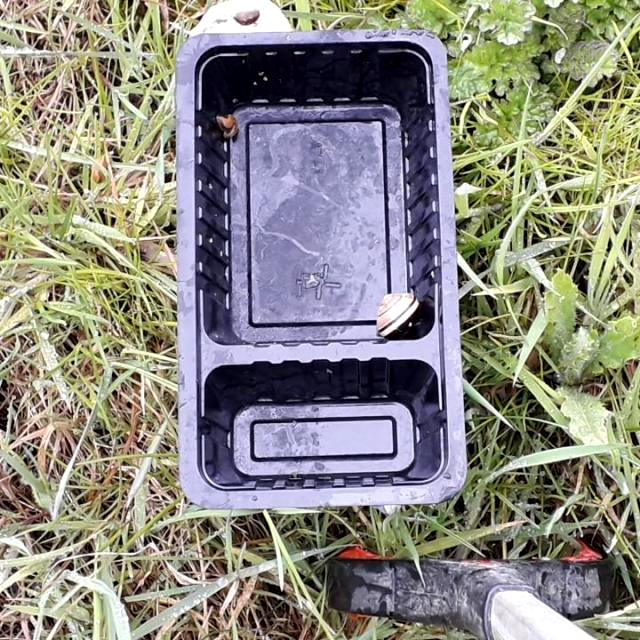Plastic: (172, 24, 470, 514)
